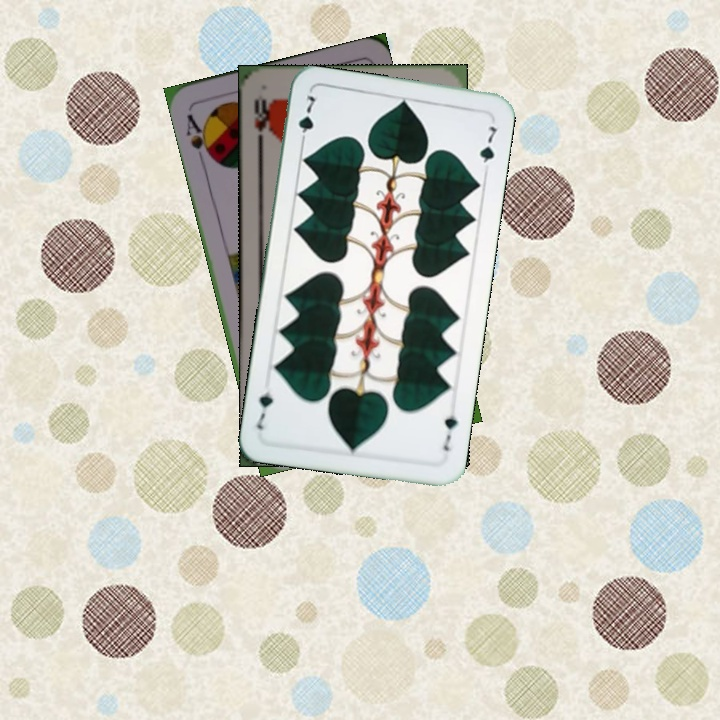G7: (294, 91, 318, 149), (439, 411, 460, 454)
HO: (249, 95, 273, 149)
SA: (182, 110, 216, 166)
